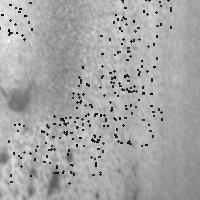pitted_surface: (28, 2, 144, 196), (8, 122, 68, 182), (72, 66, 131, 124), (45, 114, 102, 174), (103, 87, 161, 145), (100, 35, 156, 93), (53, 96, 111, 145), (113, 0, 170, 30), (1, 78, 36, 113), (0, 0, 31, 38)
